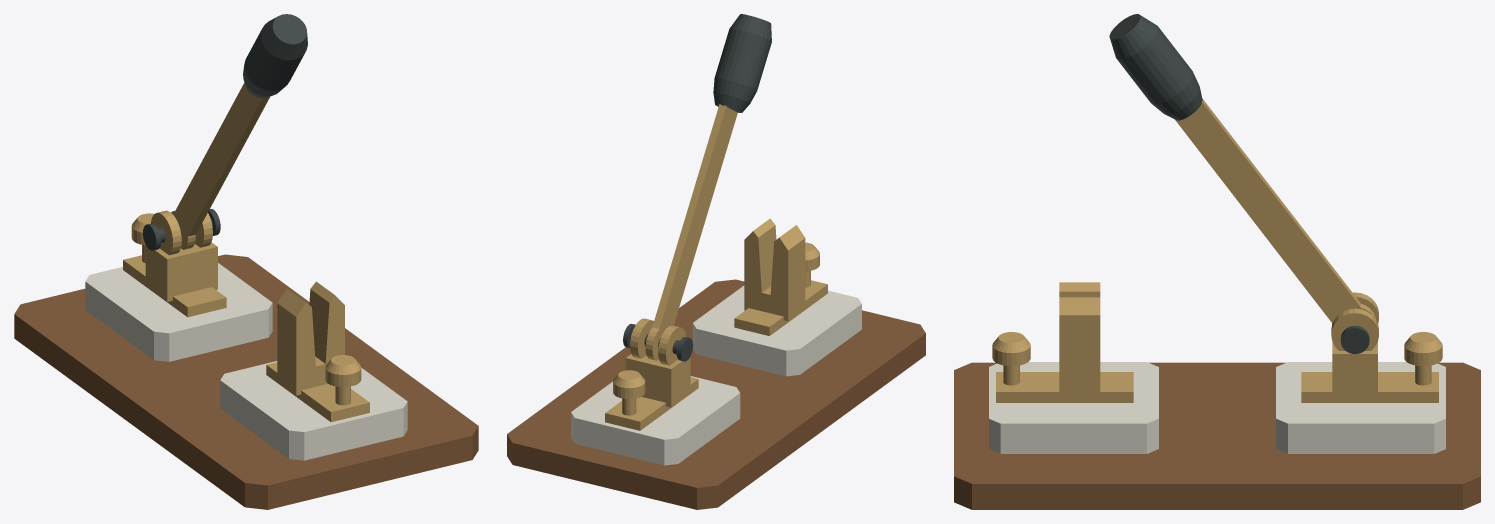
The picture shows the model from 3 angles, left to right: view 1: azimuth 30°, elevation 25°; view 2: azimuth 150°, elevation 25°; view 3: azimuth 270°, elevation 25°; orthographic projection. The views are drawn at different scales.
Parts seen in each view (by area): view 1: WholeLongGroundMountingBoard, RearWholeInsulatingFoot, FrontWholeInsulatingFoot, WholeEmptyFlaredForkContact, WholeRaisedBluntContactBlade, WholeRaisedInsulatedGrip, WholeRearHingeBridge, FrontWholeContactAndTerminalStrap, RearWholeContactAndTerminalStrap, FrontWholeBlankBindingPost, LeftWholeBoredHingeEar, WholeHeadedTransverseHingePin; view 2: WholeLongGroundMountingBoard, FrontWholeInsulatingFoot, RearWholeInsulatingFoot, WholeEmptyFlaredForkContact, WholeRaisedBluntContactBlade, WholeRaisedInsulatedGrip, WholeRearHingeBridge, FrontWholeContactAndTerminalStrap, RearWholeContactAndTerminalStrap, RearWholeBlankBindingPost, LeftWholeBoredHingeEar, WholeHeadedTransverseHingePin (+2 smaller); view 3: WholeLongGroundMountingBoard, FrontWholeInsulatingFoot, RearWholeInsulatingFoot, WholeRaisedBluntContactBlade, WholeRaisedInsulatedGrip, WholeEmptyFlaredForkContact, FrontWholeContactAndTerminalStrap, RearWholeContactAndTerminalStrap, WholeRearHingeBridge, FrontWholeBlankBindingPost, RearWholeBlankBindingPost, RightWholeBoredHingeEar (+1 smaller).
Boxes of the visible parts, x1,y1,x2,y2 form: WholeLongGroundMountingBoard: (14,254,478,509); RearWholeInsulatingFoot: (85,263,272,361); FrontWholeInsulatingFoot: (220,361,407,460); WholeEmptyFlaredForkContact: (277,281,344,395); WholeRaisedBluntContactBlade: (175,83,269,236); WholeRaisedInsulatedGrip: (243,14,307,97); WholeRearHingeBridge: (145,242,217,301); FrontWholeContactAndTerminalStrap: (266,362,369,422); RearWholeContactAndTerminalStrap: (123,255,226,317); FrontWholeBlankBindingPost: (325,355,361,405); LeftWholeBoredHingeEar: (151,210,181,255); WholeHeadedTransverseHingePin: (143,209,220,250); WholeLongGroundMountingBoard: (507,279,925,509); FrontWholeInsulatingFoot: (692,285,861,376); RearWholeInsulatingFoot: (571,376,740,465); WholeEmptyFlaredForkContact: (744,218,805,321); WholeRaisedBluntContactBlade: (652,104,737,330); WholeRaisedInsulatedGrip: (713,14,771,112); WholeRearHingeBridge: (625,354,690,407); FrontWholeContactAndTerminalStrap: (734,280,827,335); RearWholeContactAndTerminalStrap: (605,377,698,430); RearWholeBlankBindingPost: (613,370,645,415); LeftWholeBoredHingeEar: (658,325,685,365); WholeHeadedTransverseHingePin: (623,324,693,361); WholeLongGroundMountingBoard: (954,362,1480,509); FrontWholeInsulatingFoot: (989,362,1158,453); RearWholeInsulatingFoot: (1276,362,1445,453); WholeRaisedBluntContactBlade: (1175,98,1360,323); WholeRaisedInsulatedGrip: (1109,14,1202,120); WholeEmptyFlaredForkContact: (1059,282,1100,398); FrontWholeContactAndTerminalStrap: (996,372,1133,402); RearWholeContactAndTerminalStrap: (1301,372,1438,402); WholeRearHingeBridge: (1332,341,1377,399); FrontWholeBlankBindingPost: (992,332,1030,385); RearWholeBlankBindingPost: (1404,332,1442,385); RightWholeBoredHingeEar: (1331,308,1378,350).
Size of the model in its own units: 0.24 by 0.3986 by 0.44.
